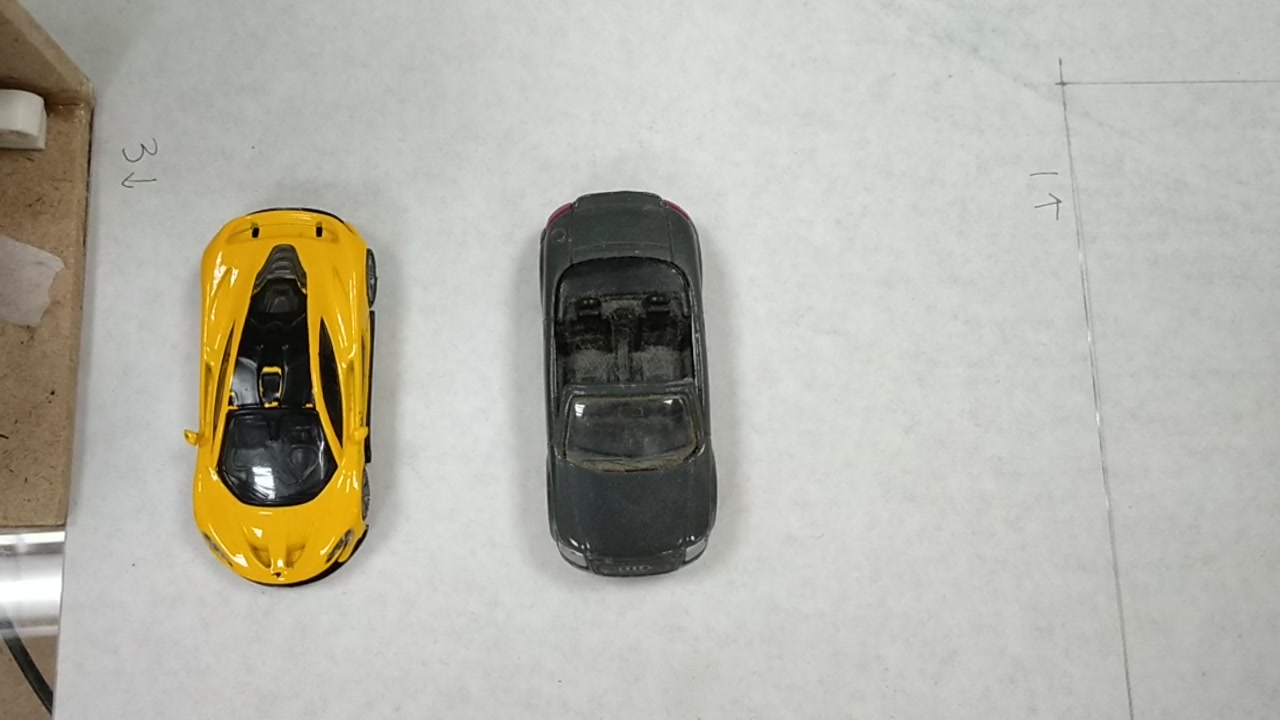car: (187, 205, 388, 559), (546, 197, 714, 561)
